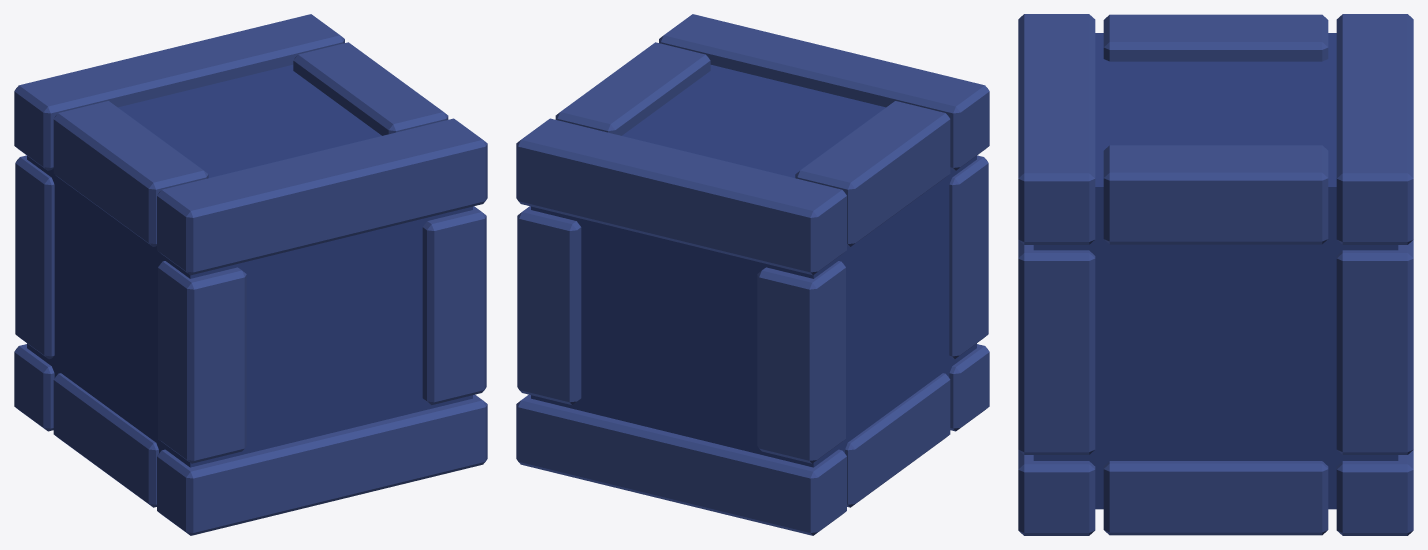
Rendered from SM_Prop_Crate_02.fbx.
3 renders of one model, left to right at view 1: azimuth 30°, elevation 25°; view 2: azimuth 150°, elevation 25°; view 3: azimuth 270°, elevation 25°, orthographic. The views are drawn at different scales.
Parts seen in each view (by area): view 1: SM_Prop_Crate_02; view 2: SM_Prop_Crate_02; view 3: SM_Prop_Crate_02.
Part boxes in pixels (bbox=[...]): SM_Prop_Crate_02: bbox=[14, 14, 487, 535]; SM_Prop_Crate_02: bbox=[516, 14, 989, 535]; SM_Prop_Crate_02: bbox=[1018, 14, 1413, 535].
Bounding box in the file's own units: 98.19 × 101 × 99.9.
